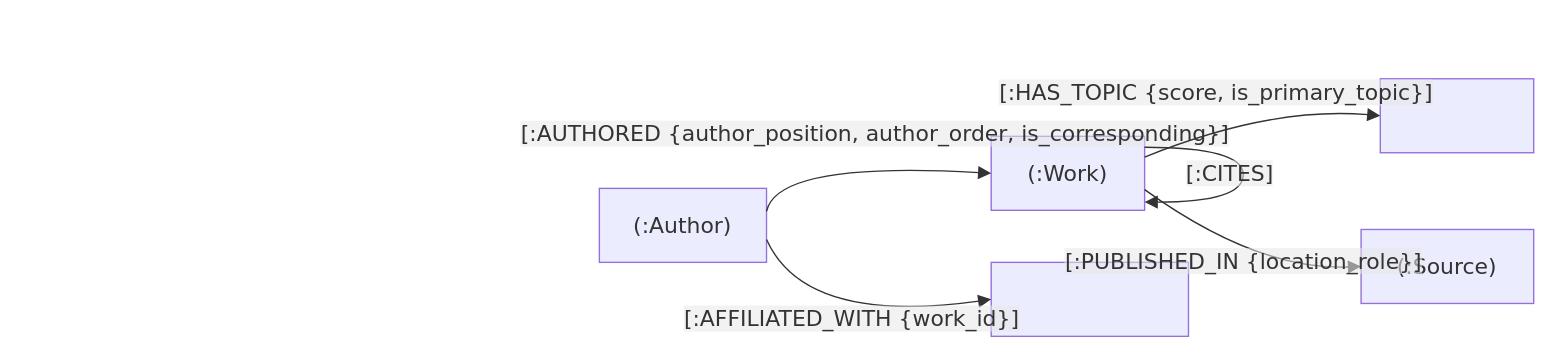
Some shapes in this 1558 by 360 pixel diagram are drawn without their labels. Each missing label, with the box of its shape:
(:Institution): (990, 261, 1188, 336)
(:Topic): (1379, 77, 1534, 153)
